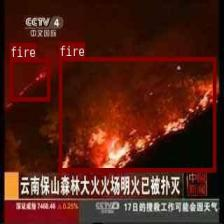fire: (59, 56, 216, 171), (9, 58, 49, 100)
